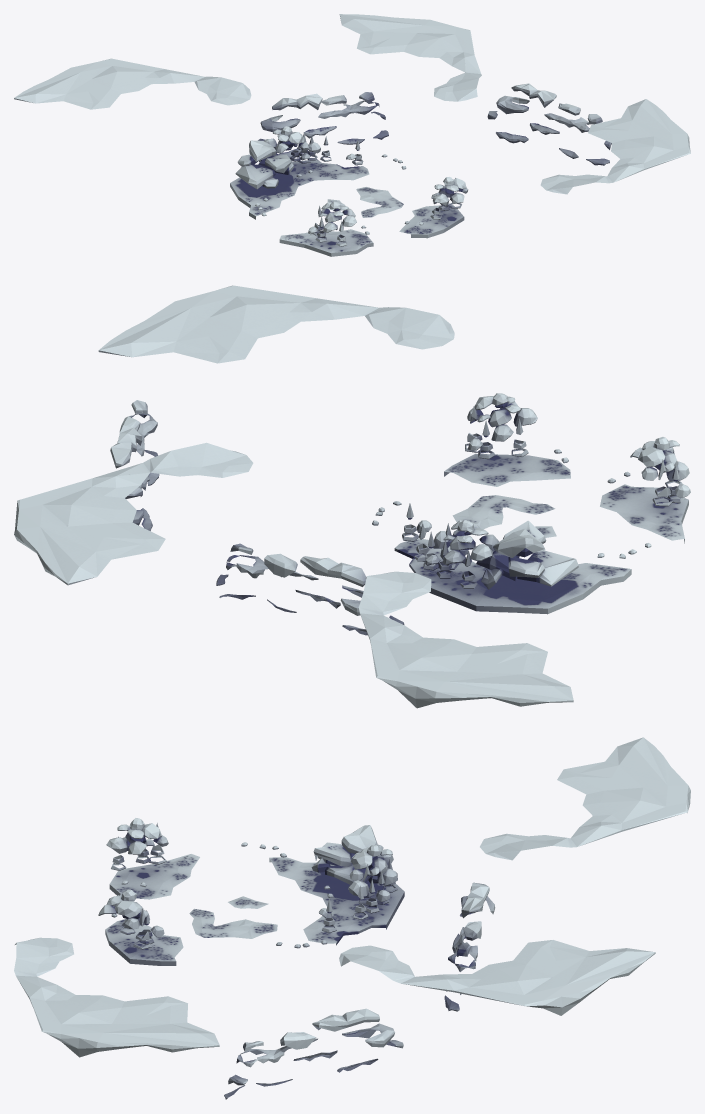
The model's file is Snow_01.FBX.
3 renders of one model, top to bottom at view 1: azimuth 30°, elevation 25°; view 2: azimuth 150°, elevation 25°; view 3: azimuth 270°, elevation 25°, orthographic. The views are drawn at different scales.
Visible parts, largest first — view 1: Snow_01; view 2: Snow_01; view 3: Snow_01.
Part boxes in pixels (left/top/right/bottom): Snow_01: left=14, top=14, right=690, bottom=256; Snow_01: left=14, top=285, right=690, bottom=708; Snow_01: left=14, top=737, right=690, bottom=1099.
Bounding box in the file's own units: 54.66 × 7.04 × 50.63.
